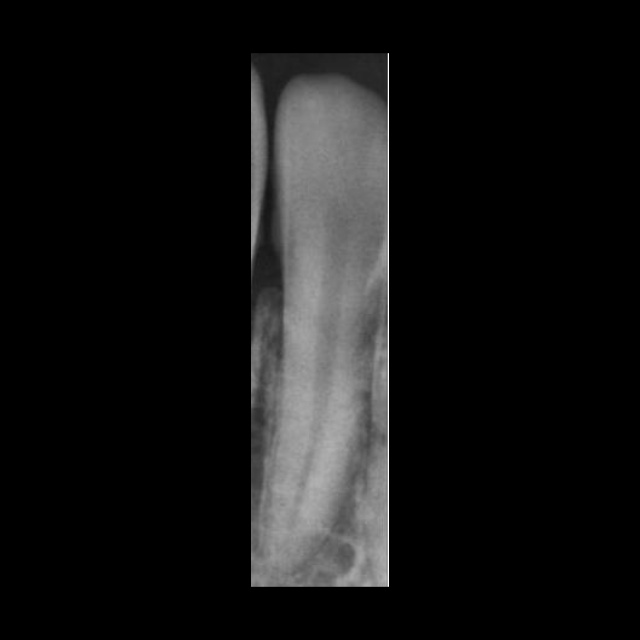tooth: (263, 72, 388, 572)
